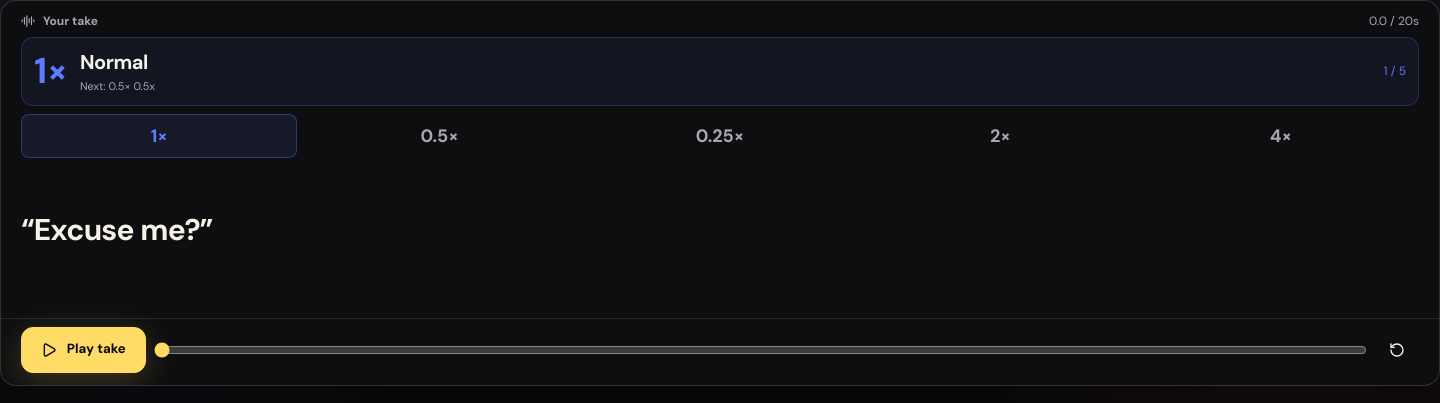
Test case: Switch cues follow the saved take's media clock › uses captured cue boundaries through scrubbing, native seeking, and feedback jumps without changing audio speed
The image size is (1440, 403).
Set the slider to "8" at [641, 350], box [154,328,1367,372]
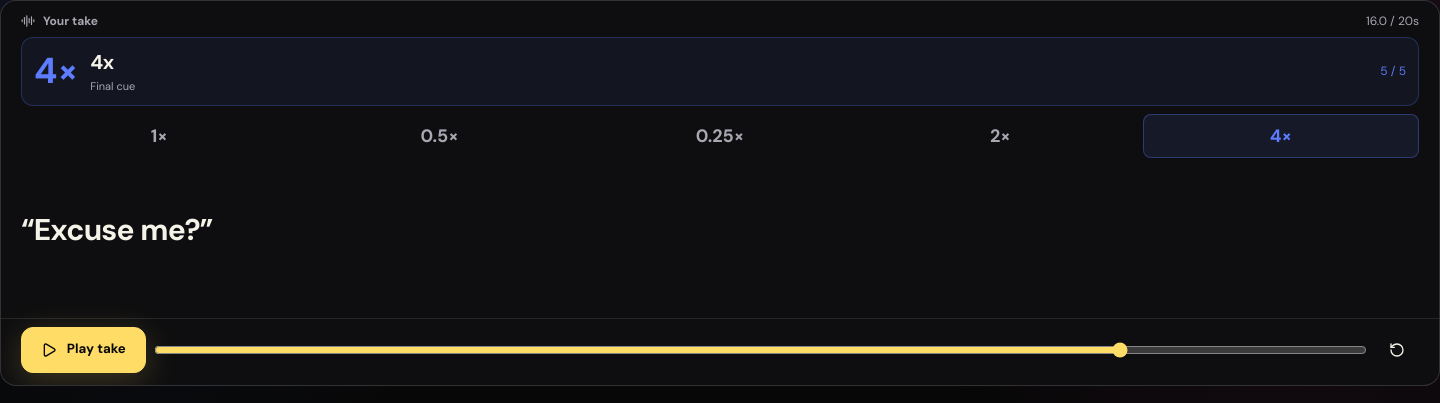
Expected: the heading named "🚀 4x" is shown, [90,49,114,75]
Click the button named "Jump to 🐢 0.5x" at [440, 136], box [301,114,578,158]
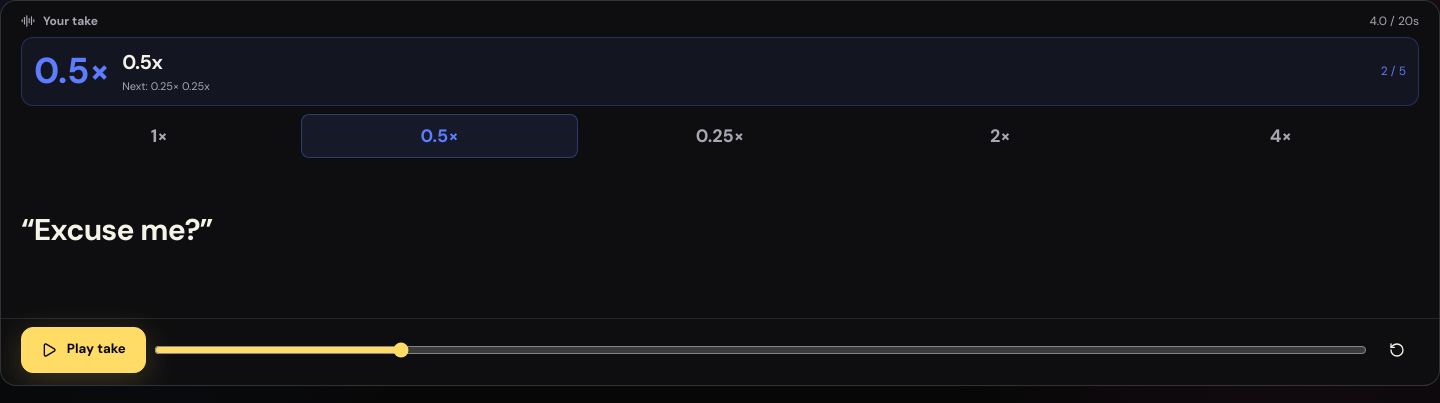
Expected: the heading named "🐢 0.5x" is shown, [122,49,162,75]
